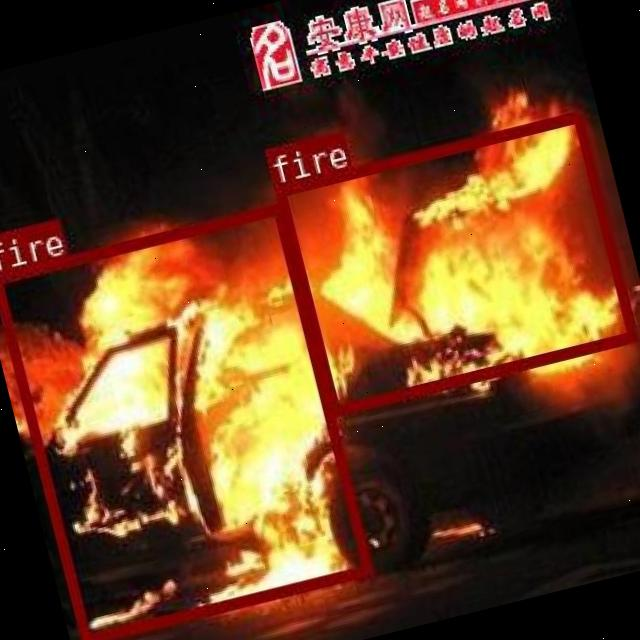fire: (0, 201, 371, 640), (273, 110, 636, 415)
